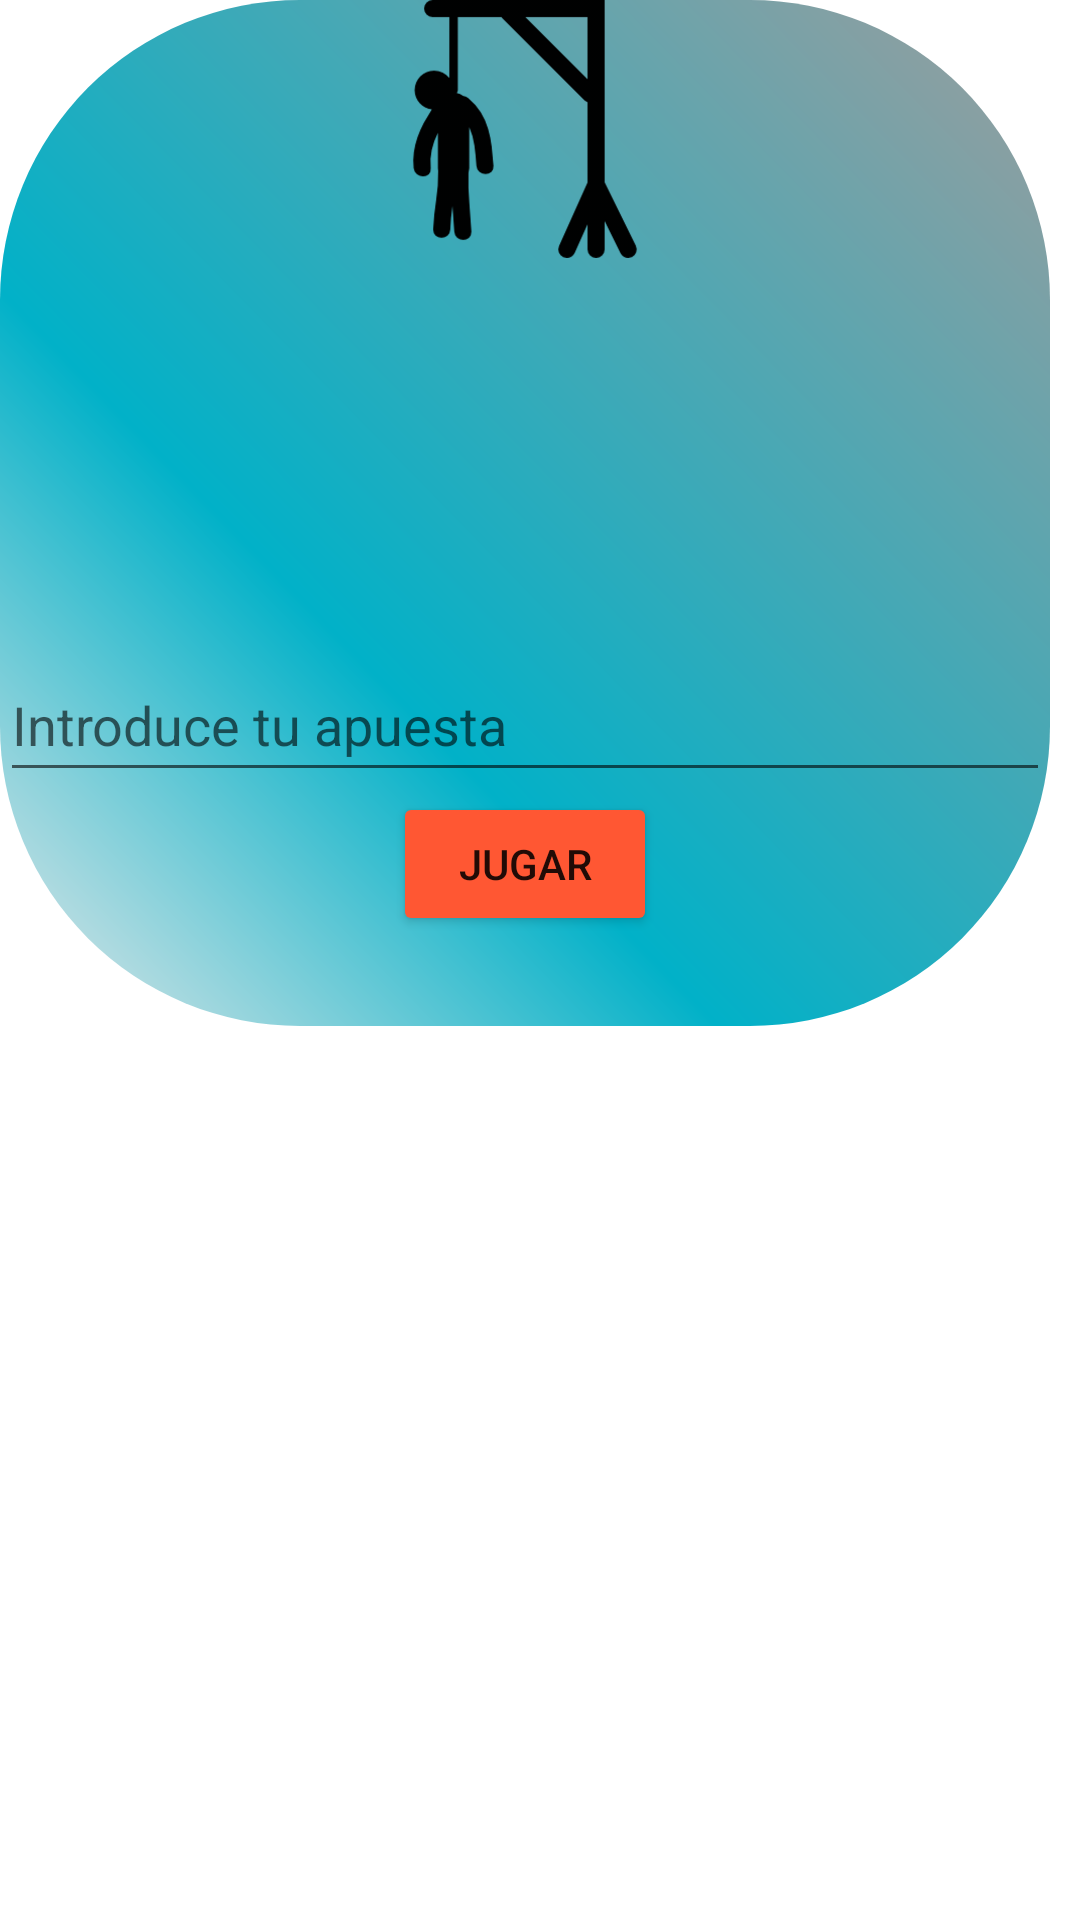

Named icons in this screenshot (1080x1920) and their centers, [x,y]:
ahorcadito: [525,129]
